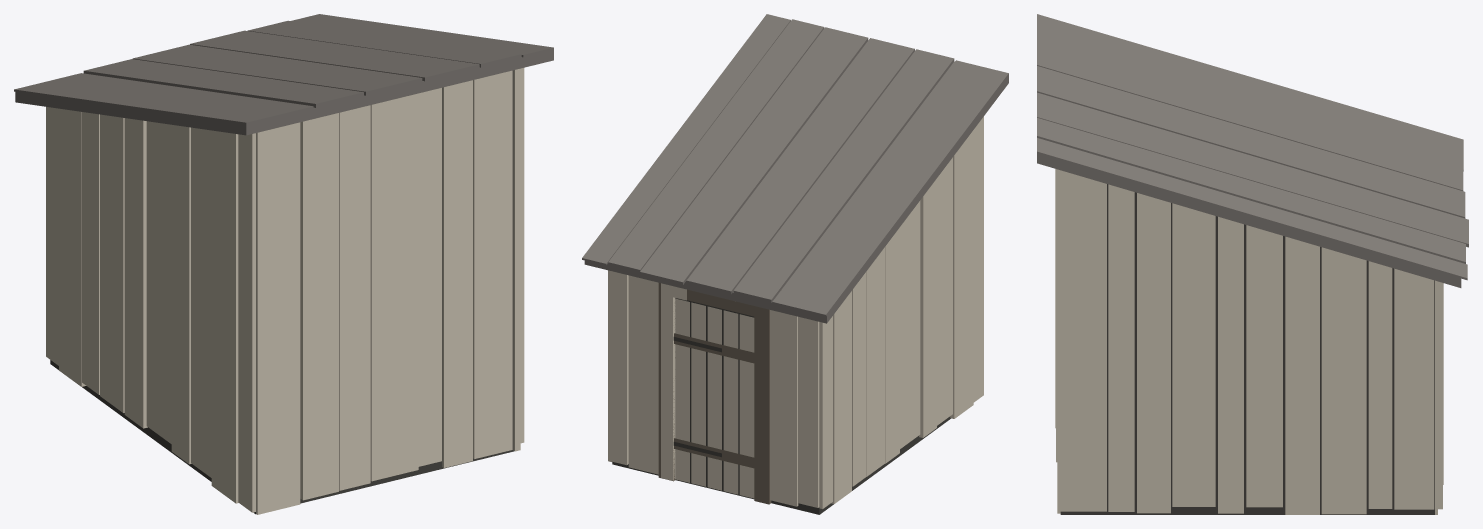
File: recon_1835_blk_washington_clark_a4_04__inferred_1835.glb
3 views of the same model, side by side, from view 1: azimuth 30°, elevation 25°; view 2: azimuth 150°, elevation 25°; view 3: azimuth 270°, elevation 25° (orthographic). The views are drawn at different scales.
Visible parts, largest first — view 1: recon_1835_blk_washington_clark_a4_04__inferred_1835; view 2: recon_1835_blk_washington_clark_a4_04__inferred_1835; view 3: recon_1835_blk_washington_clark_a4_04__inferred_1835.
Boxes of the visible parts, x1,y1,x2,y2 form: recon_1835_blk_washington_clark_a4_04__inferred_1835: (14,14,553,514); recon_1835_blk_washington_clark_a4_04__inferred_1835: (582,14,1008,514); recon_1835_blk_washington_clark_a4_04__inferred_1835: (1037,14,1468,514).
Bounding box in the file's own units: 2.58 × 3.28 × 3.42.
